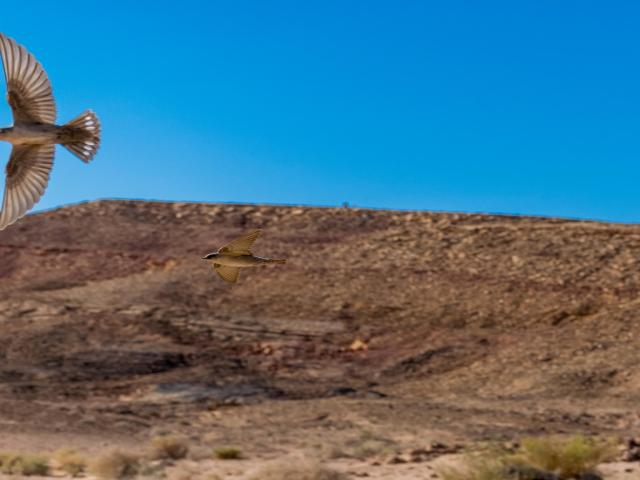Bird: (0, 28, 106, 230), (206, 230, 290, 284)
